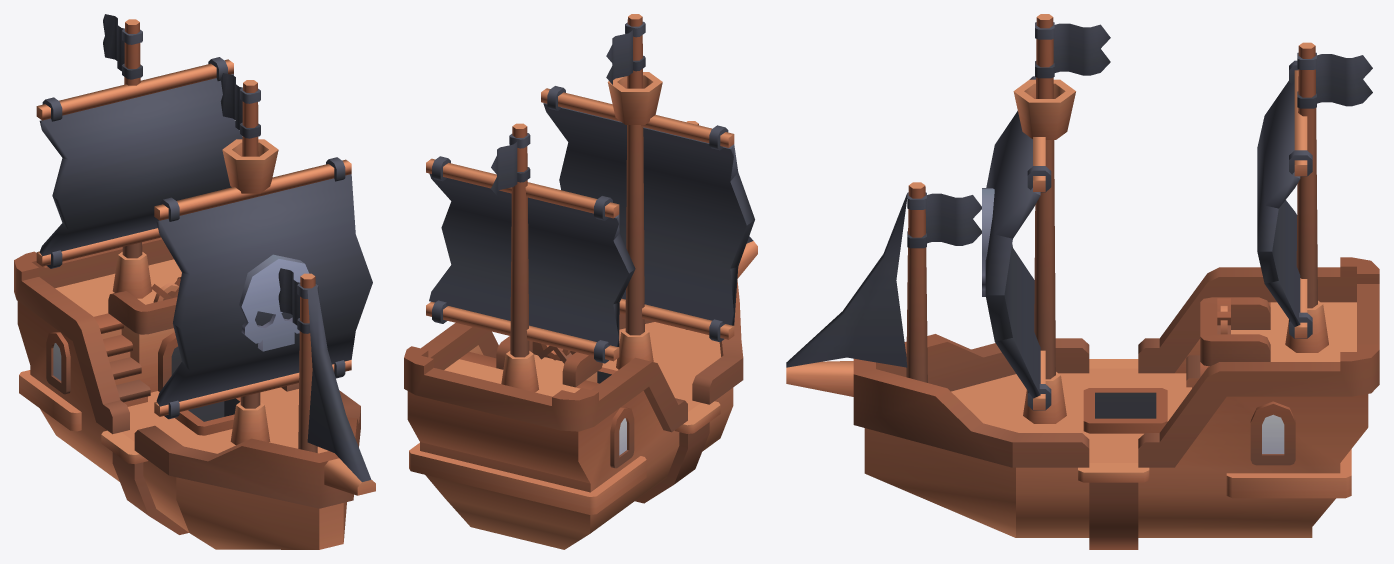
File: ship-pirate-medium.glb
3 views of the same model, side by side, from view 1: azimuth 30°, elevation 25°; view 2: azimuth 150°, elevation 25°; view 3: azimuth 270°, elevation 25° (orthographic). The views are drawn at different scales.
Parts seen in each view (by area): view 1: ship-pirate-medium; view 2: ship-pirate-medium; view 3: ship-pirate-medium.
Boxes of the visible parts, x1,y1,x2,y2 form: ship-pirate-medium: (14,14,375,549); ship-pirate-medium: (404,14,757,549); ship-pirate-medium: (786,14,1379,549).
Bounding box in the file's own units: 4.8 × 9.96 × 10.6.
1 material, 1 textured.
